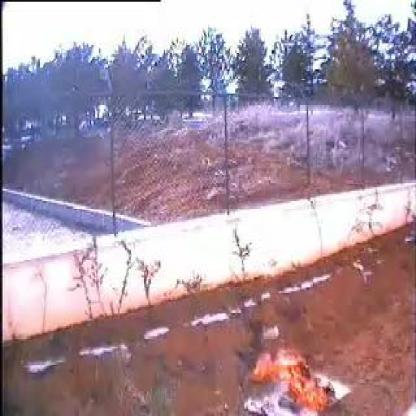foggia-v2-map80-epoch100 - v1 4323: (251, 353, 334, 413)
